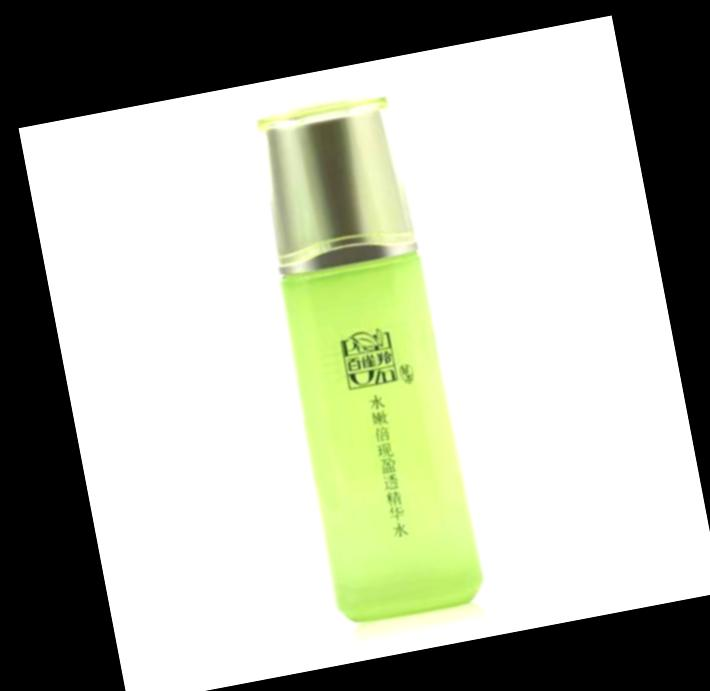cosmetic: (249, 88, 488, 614)
